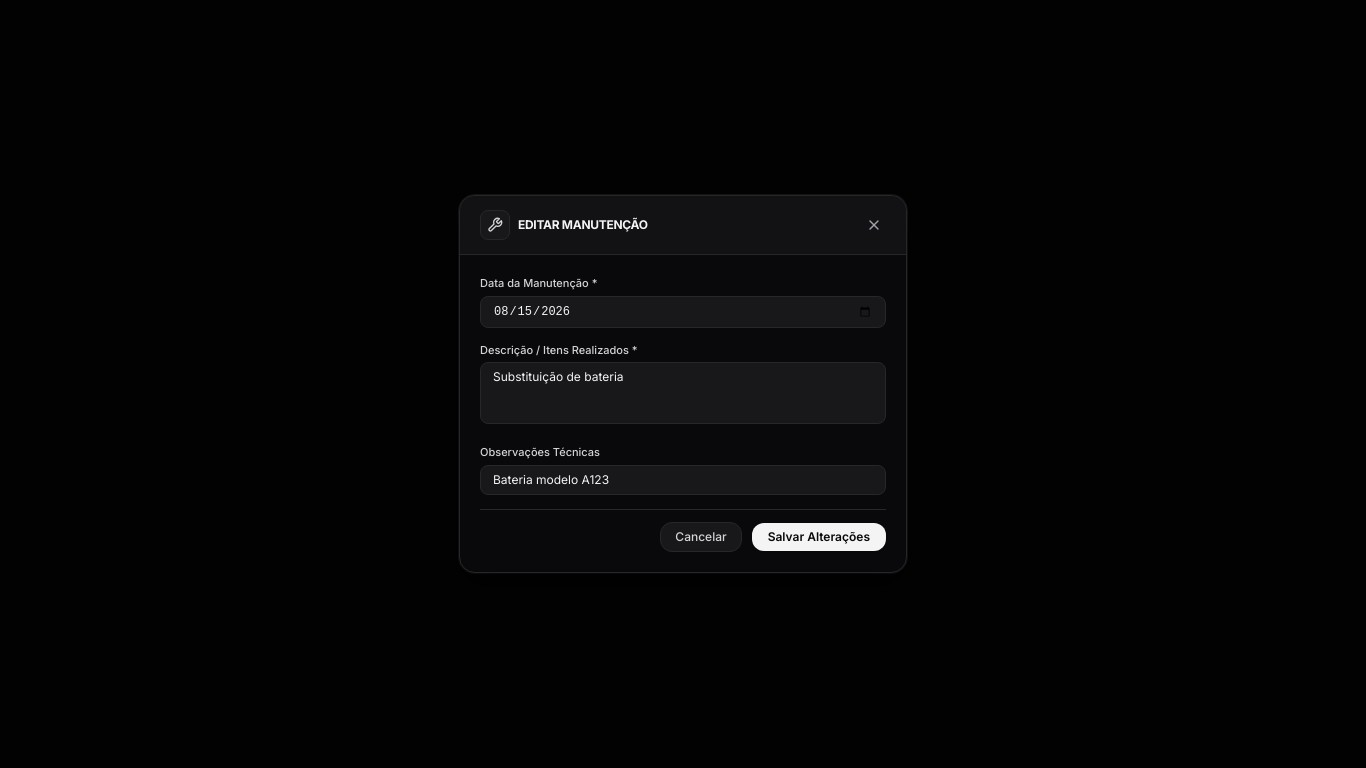
Test: EditMaintenanceModal › exibe erro genérico quando requisição rejeita sem detail
This screenshot has width=1366, height=768.
Click the button "Salvar Alterações".
click(819, 537)  # box [752,523,886,551]
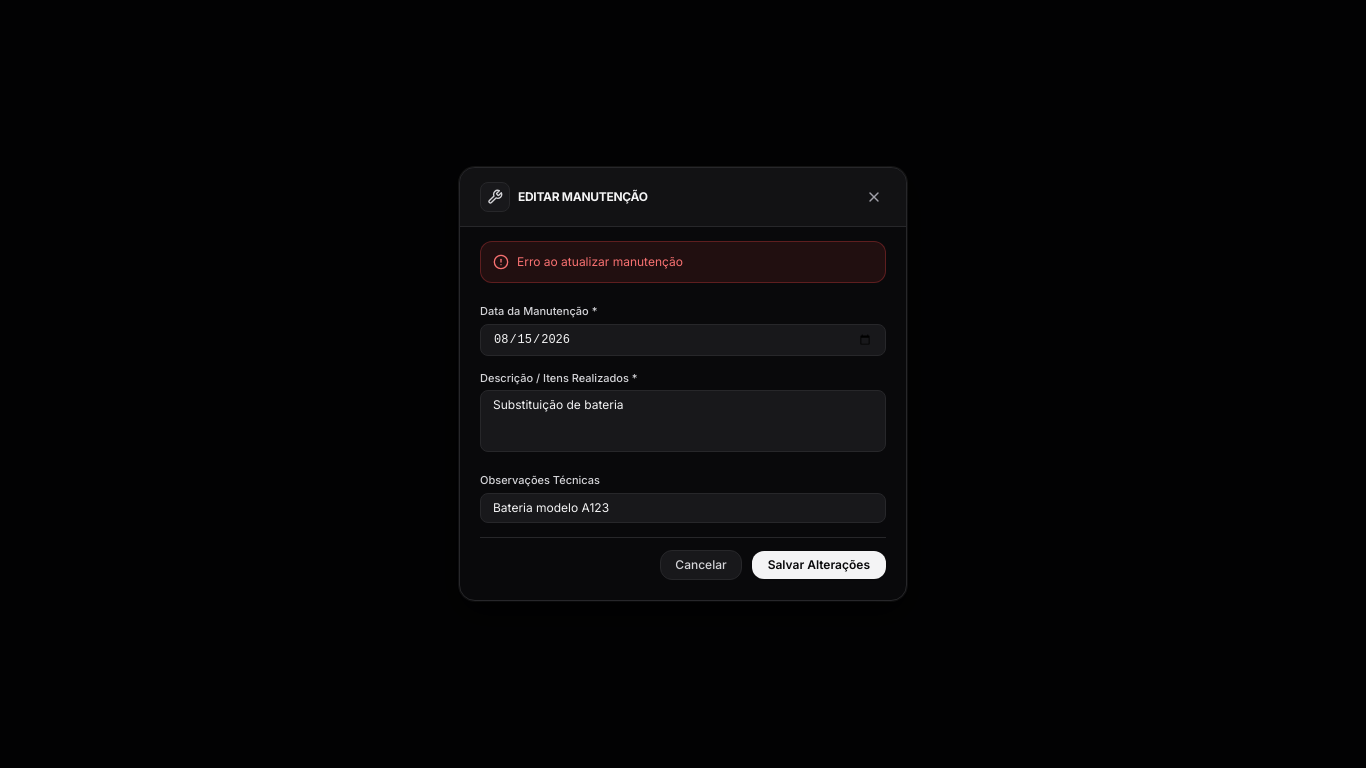
Result: the text "Erro ao atualizar manutenção" is shown at [517,254,683,270]
